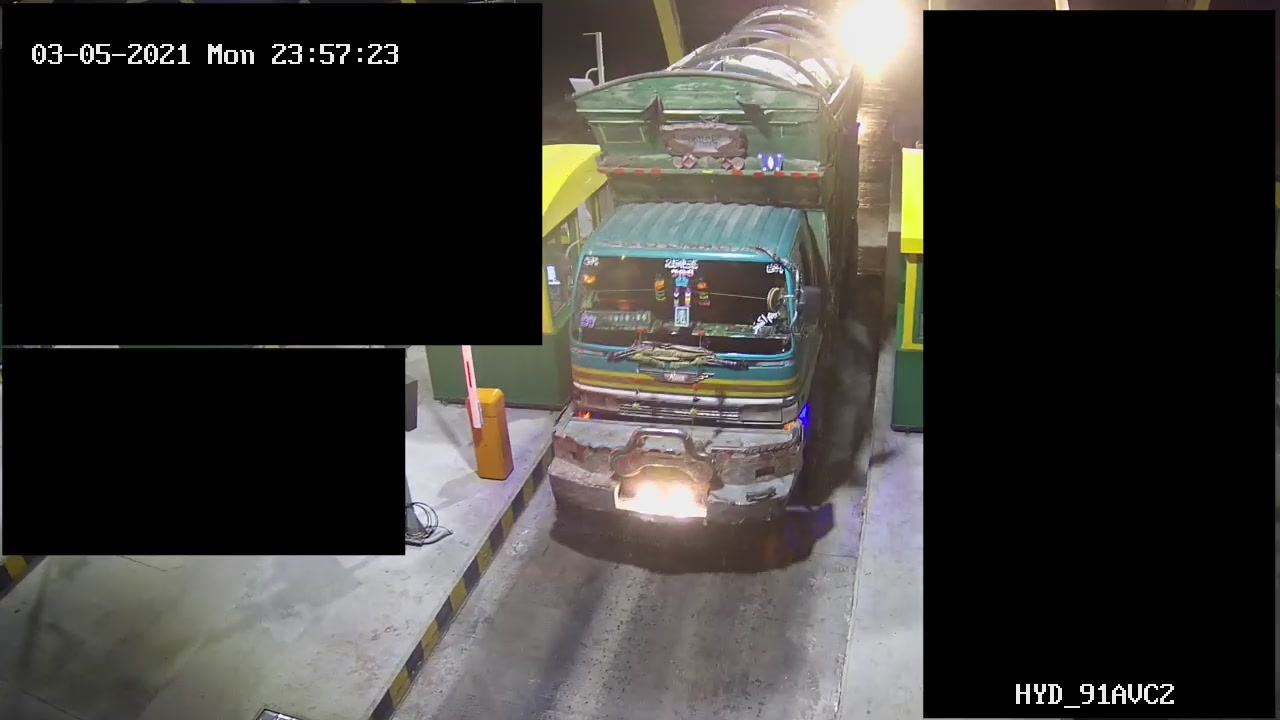F5: (537, 1, 868, 549)
